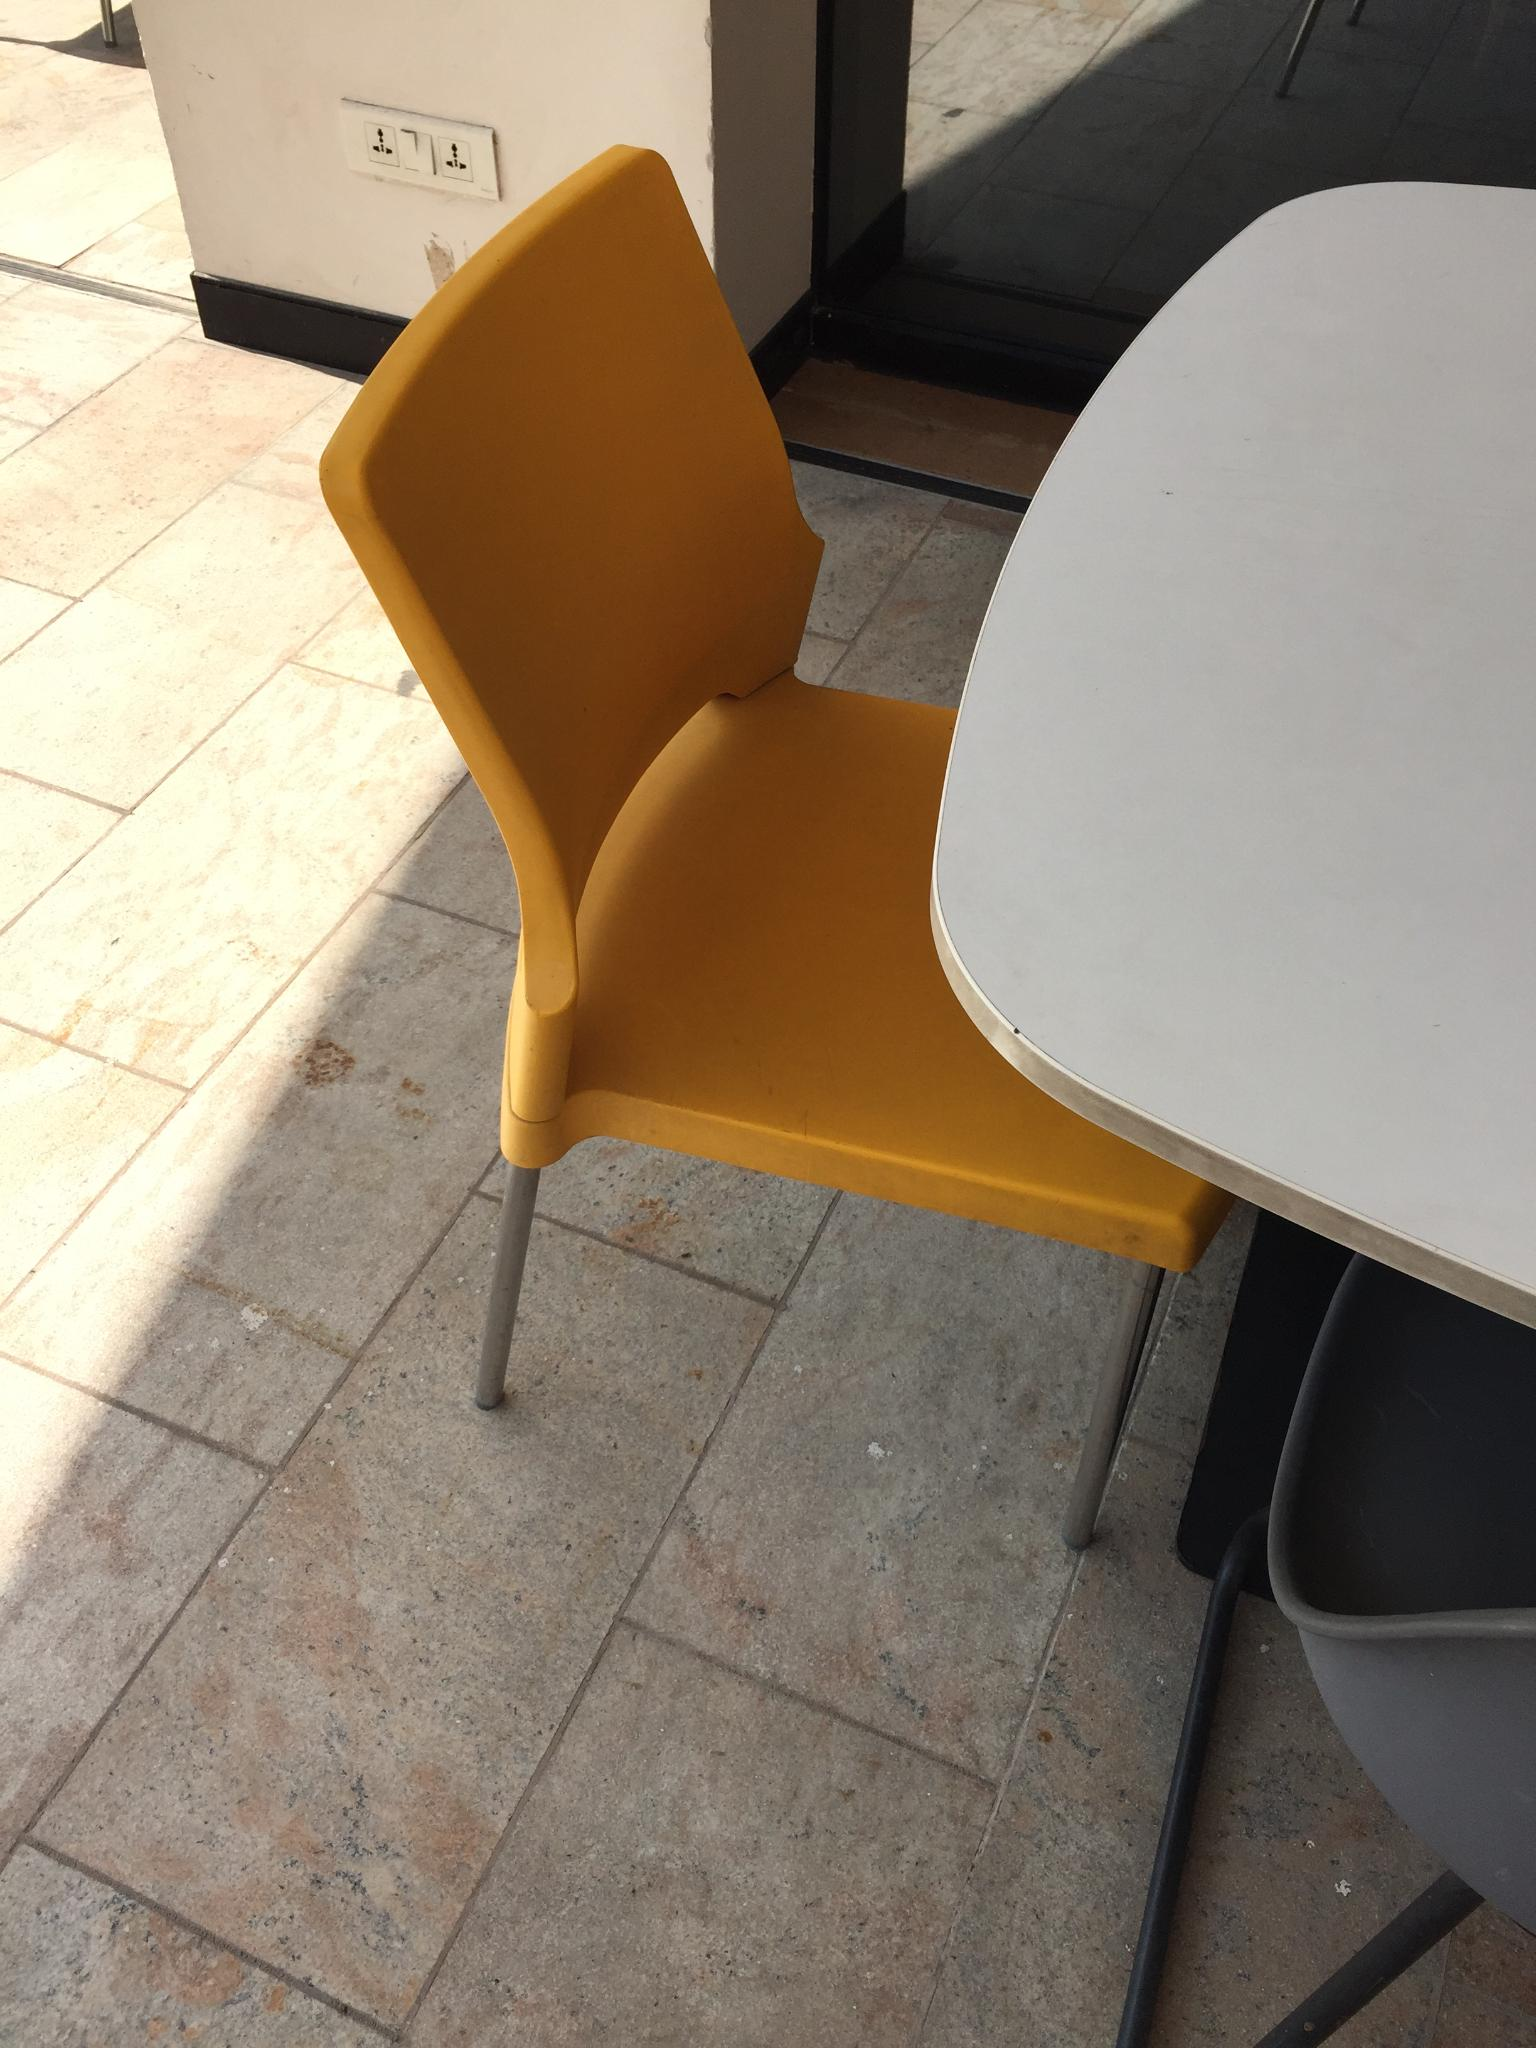chair: (316, 142, 1239, 1548)
